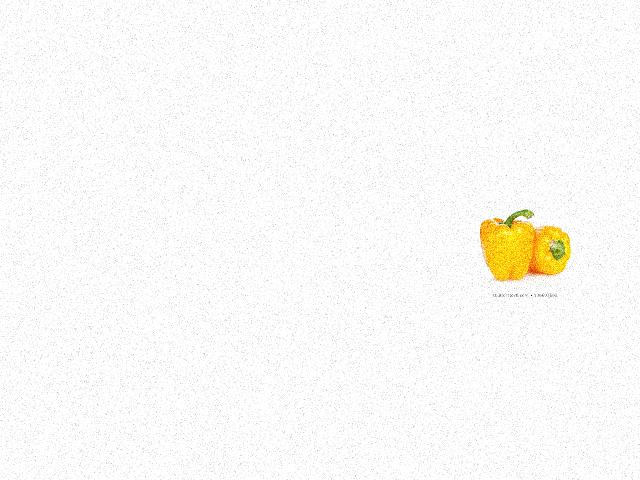bell_pepper: (526, 222, 571, 277)
